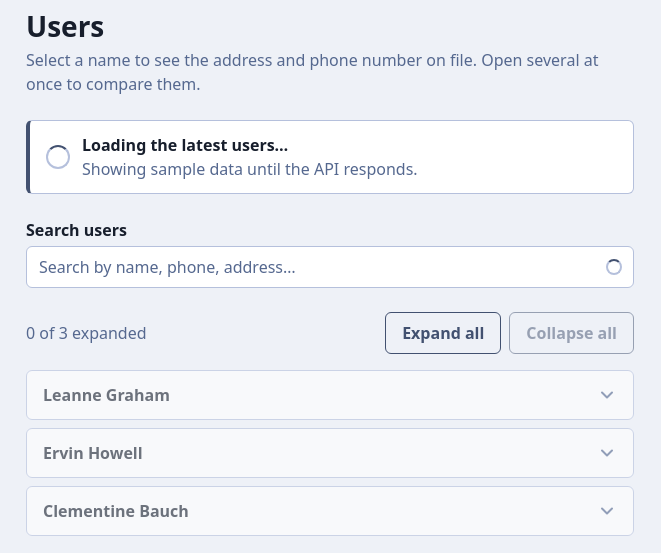
Scenario: UsersPage › keeps the optimistic users searchable and marked as pending while the API loads
Expected: the text "Showing sample data until the API responds." is shown, [82,158,418,180]
Type "howell" into the dropdown labelled "Search users" at (330, 267), box [26,246,634,288]
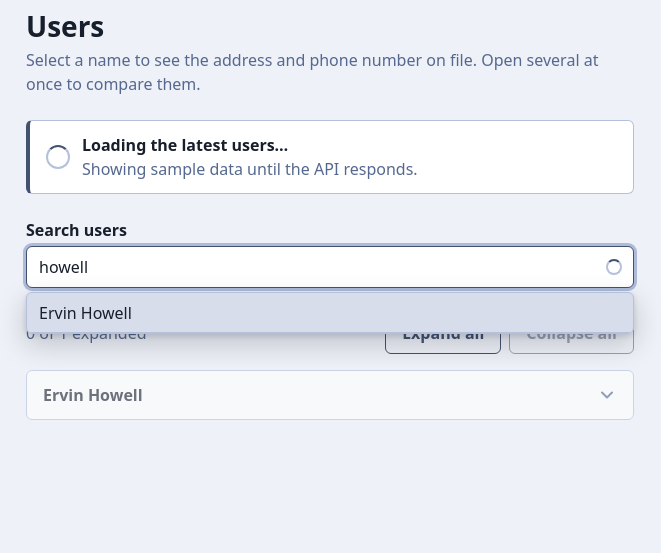
Now the number of buttons "Ervin Howell" is 1, box [27,371,633,419]
